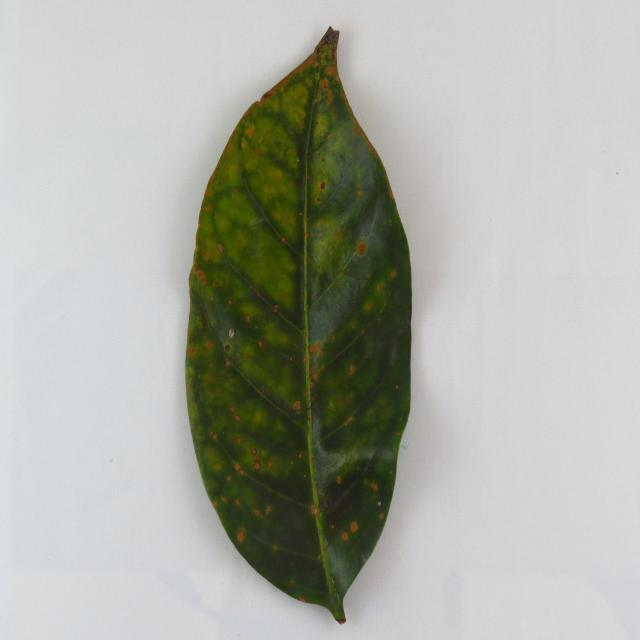DeficienciaNutricional-Magnesio: (186, 28, 411, 623)
